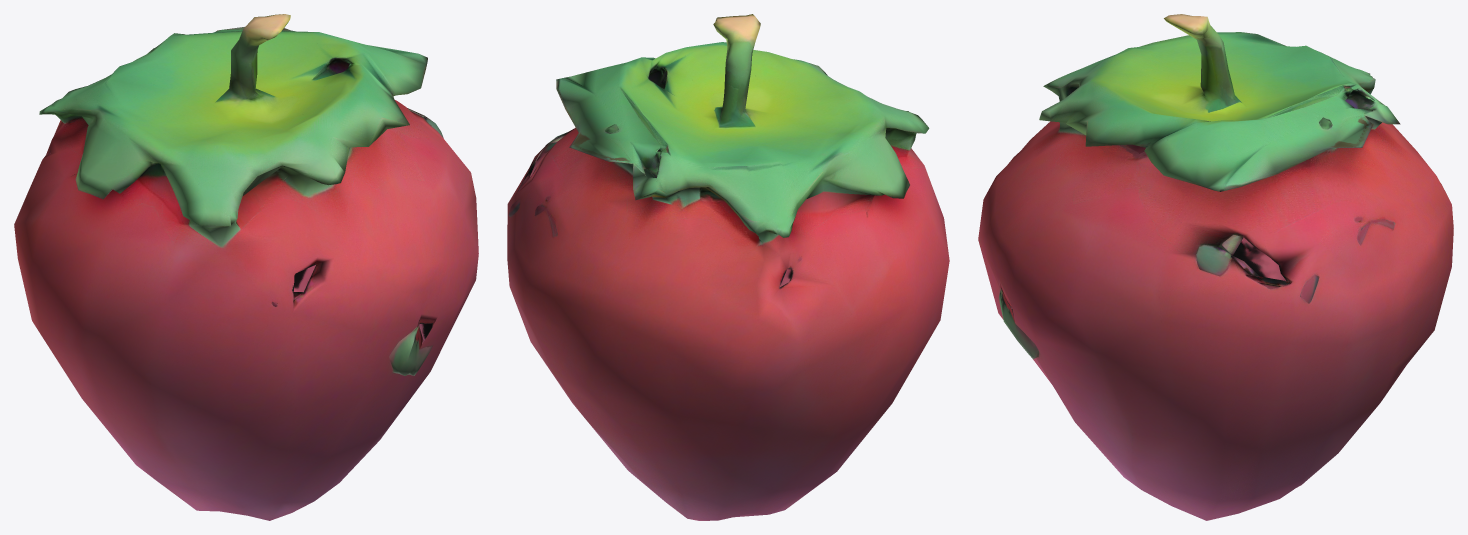
The model's file is fruit_strawberry_l.glb.
3 renders of one model, left to right at view 1: azimuth 30°, elevation 25°; view 2: azimuth 150°, elevation 25°; view 3: azimuth 270°, elevation 25°, orthographic. The views are drawn at different scales.
Bounding box in the file's own units: 1.74 × 2 × 1.76.
1 material, 1 textured.
